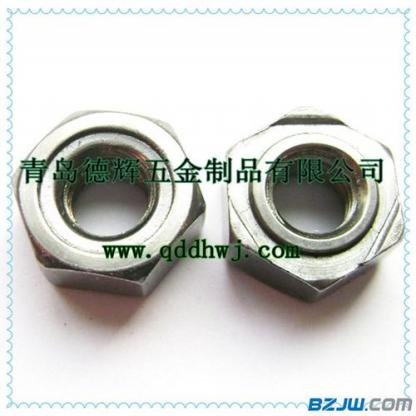FOD: (213, 103, 410, 305), (10, 102, 208, 298)
